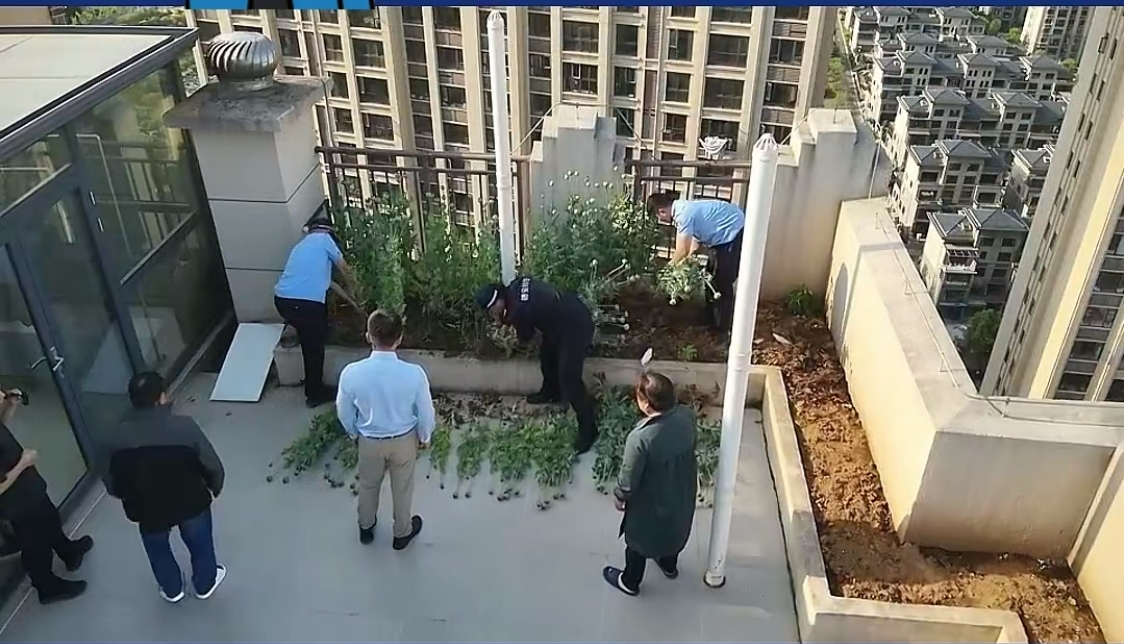Poppy: (520, 159, 703, 331), (422, 395, 622, 512), (337, 181, 500, 320), (255, 391, 365, 502), (685, 397, 732, 515)
